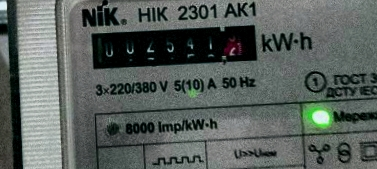0: (101, 37, 115, 59), (122, 34, 135, 56)
1: (203, 29, 215, 52)
2: (142, 32, 157, 55)
4: (183, 30, 195, 51)
5: (162, 31, 176, 55)
6: (226, 44, 237, 56)
screen: (77, 14, 269, 77)
